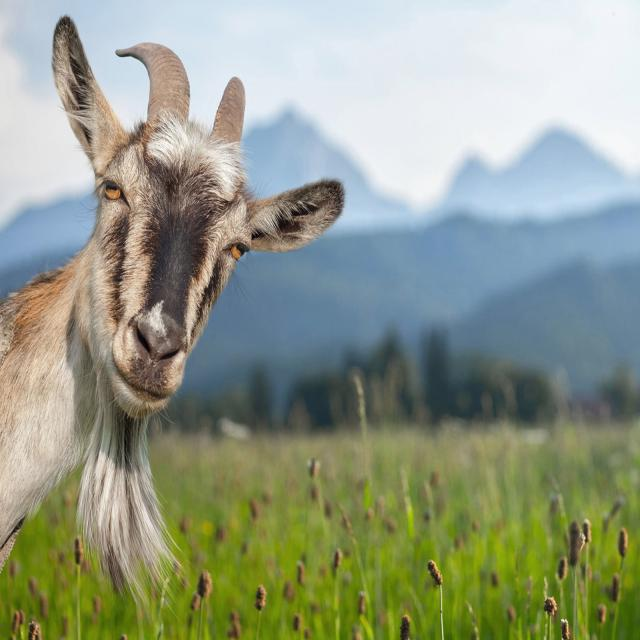goat: (0, 16, 345, 599)
